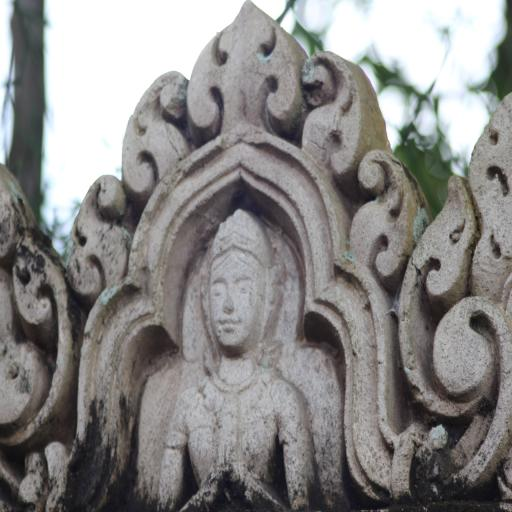la: (398, 182, 511, 418), (0, 166, 78, 450), (186, 0, 305, 142), (299, 32, 385, 182), (122, 66, 188, 199), (352, 152, 420, 281), (67, 177, 132, 302)
than: (166, 210, 315, 512)
